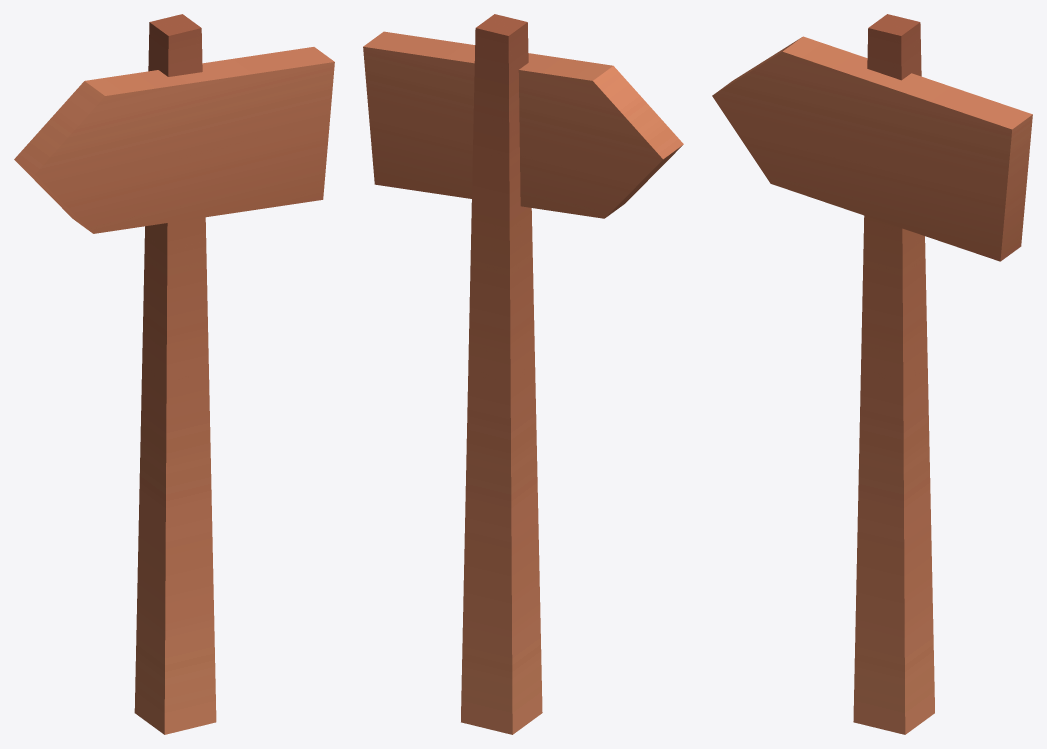
The picture shows the model from 3 angles, left to right: view 1: azimuth 30°, elevation 25°; view 2: azimuth 150°, elevation 25°; view 3: azimuth 330°, elevation 25°; orthographic projection.
Visible parts, largest first — view 1: signpost-single; view 2: signpost-single; view 3: signpost-single.
Part boxes in pixels (left/top/right/bottom): signpost-single: left=14, top=14, right=334, bottom=734; signpost-single: left=363, top=14, right=683, bottom=734; signpost-single: left=712, top=14, right=1032, bottom=734.
Bounding box in the file's own units: 0.5458 × 1.2 × 0.1124.
Materials: 1 (1 with a texture image).
